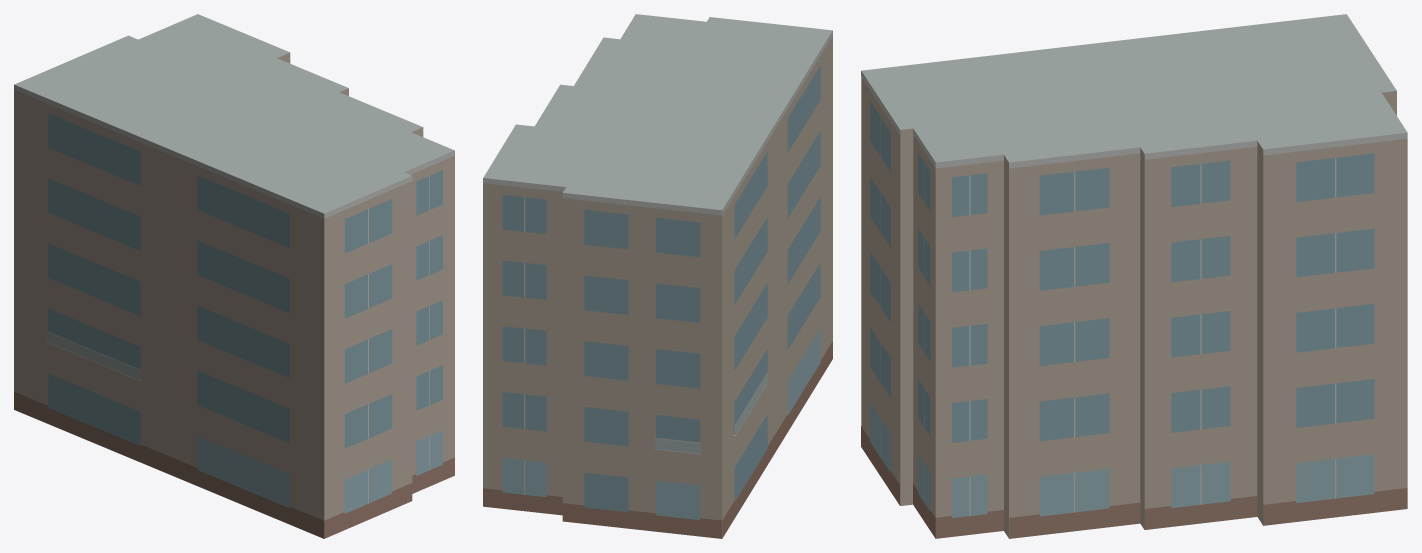
File: survey-upis-32597971.glb
3 renders of one model, left to right at view 1: azimuth 30°, elevation 25°; view 2: azimuth 150°, elevation 25°; view 3: azimuth 270°, elevation 25°, orthographic. The views are drawn at different scales.
Visible parts, largest first — view 1: survey-upis-32597971.tmp; view 2: survey-upis-32597971.tmp; view 3: survey-upis-32597971.tmp.
Part boxes in pixels (bbox=[...]): survey-upis-32597971.tmp: bbox=[14, 14, 454, 538]; survey-upis-32597971.tmp: bbox=[483, 14, 832, 538]; survey-upis-32597971.tmp: bbox=[861, 14, 1407, 538].
Size of the model in its own units: 12.98 by 15.31 by 20.17.
